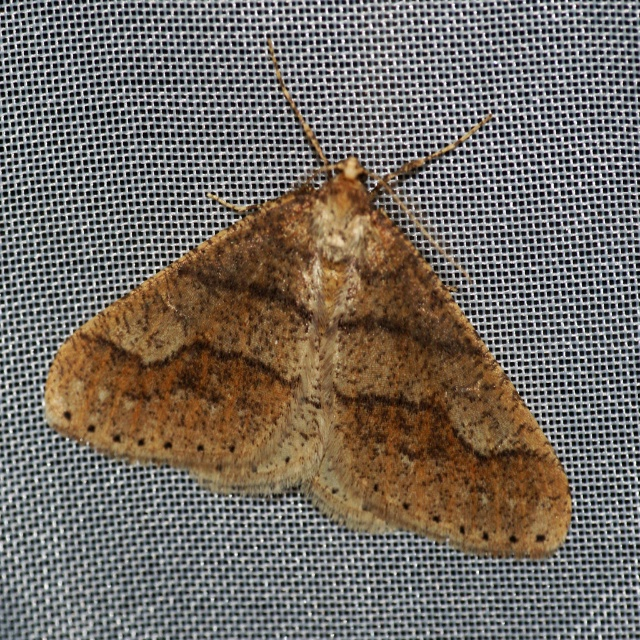Moths and butterflies: (42, 40, 574, 557)
